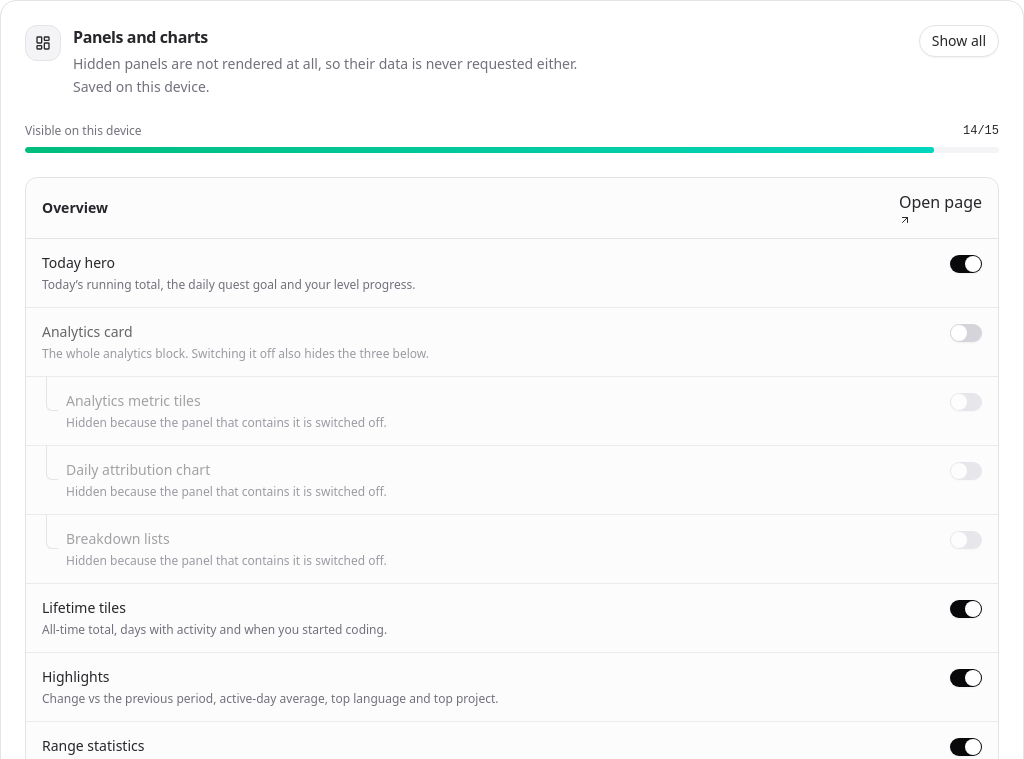
Test: DashboardPanelsPanel › disables a nested switch while the panel containing it is off
Expected: the text "Hidden because the panel that contains it is switched off." is shown 3 times, [66,414,387,430]; [66,484,387,500]; [66,552,387,568]
Click the switch with test id "panel-switch-overview.analytics": coordinates (966, 333) [950,324,982,342]
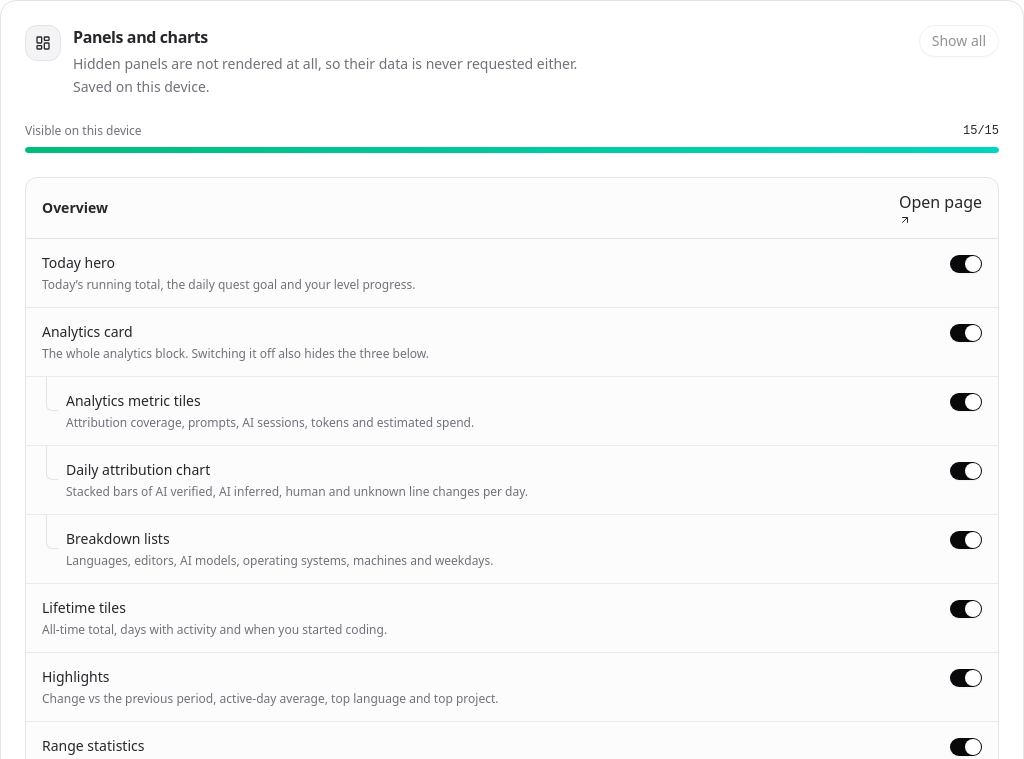
Expected: the switch with test id "panel-switch-overview.analytics-attribution" is enabled, [950,462,982,480]
